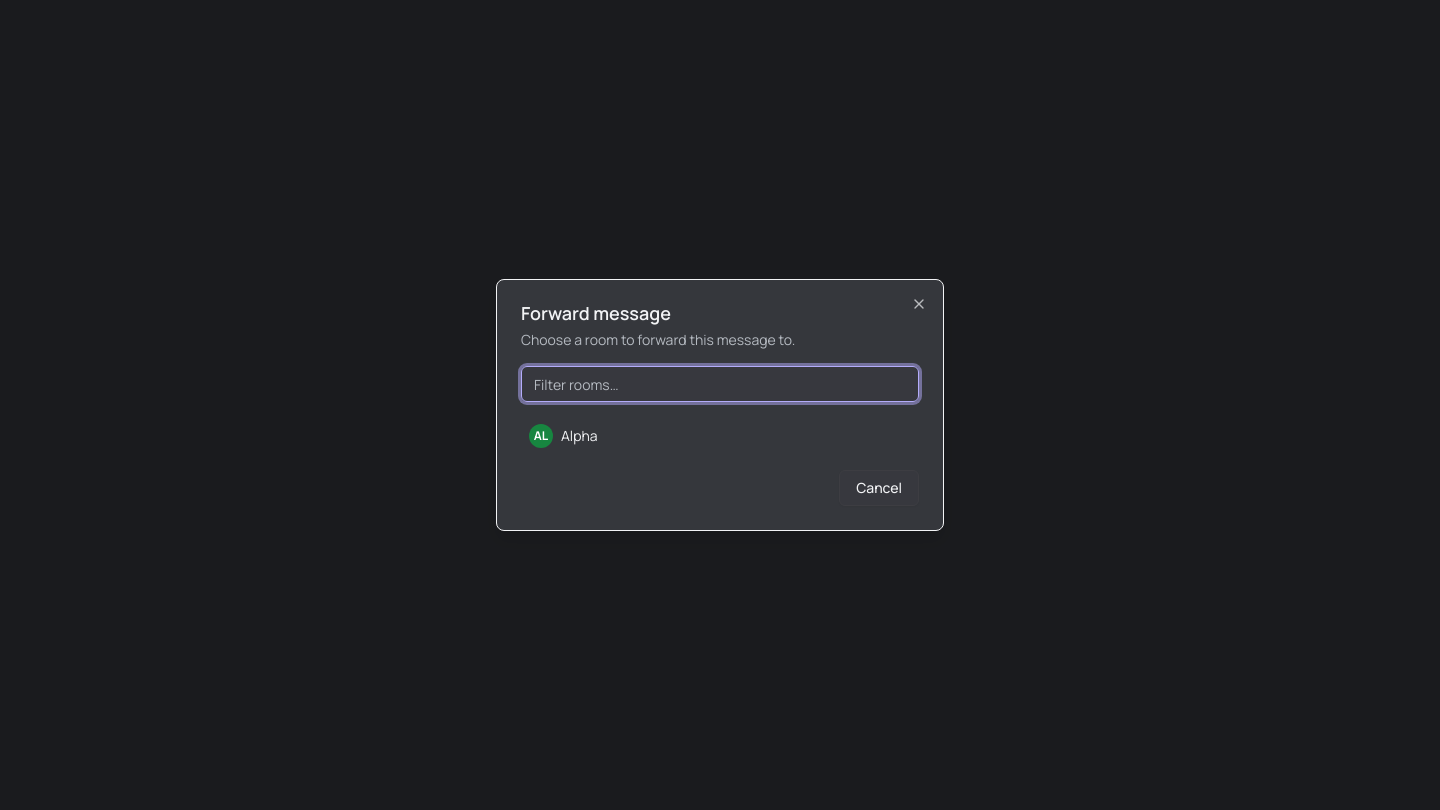
ForwardMessageDialog › shows an inline error when forwarding fails
Click the text "Alpha".
click(579, 436)  # box [561,426,598,446]
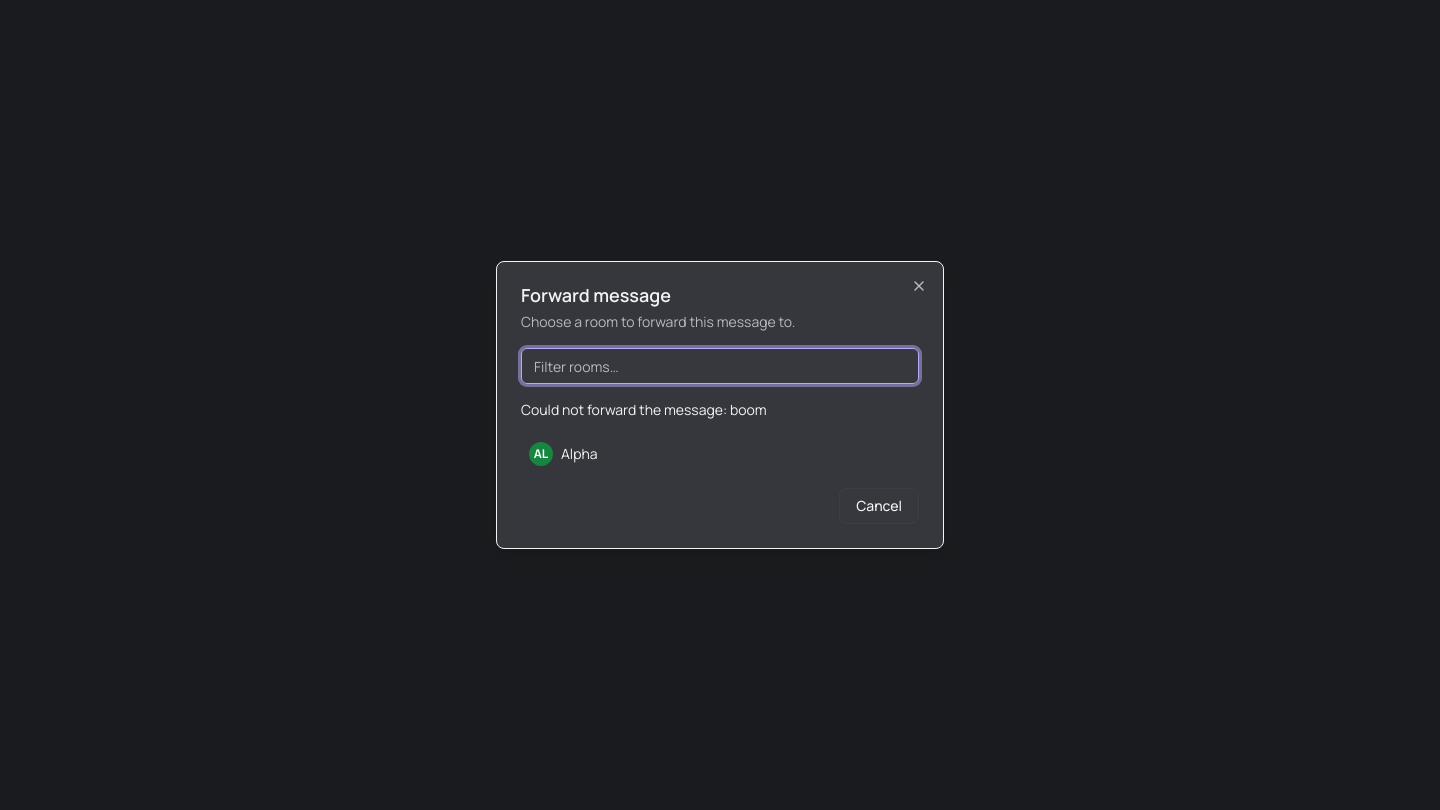
Expected: the message shows "boom", [730,400,767,419]
